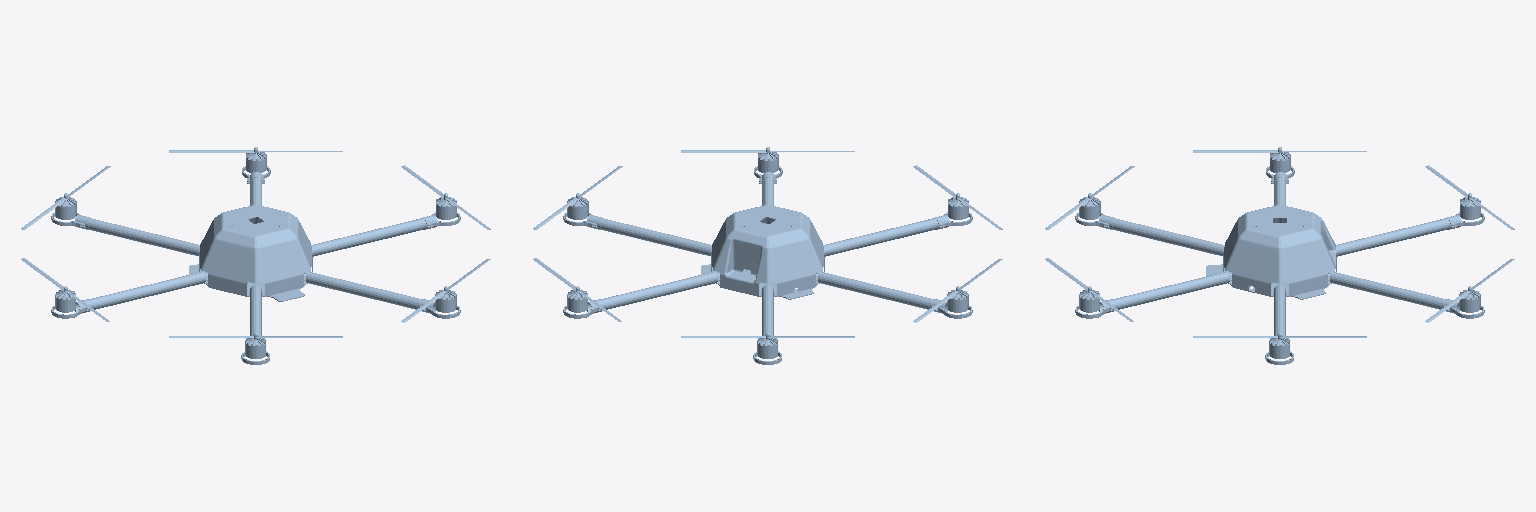
The robot description file, URDF, robot "uav_urdf":
<?xml version="1.0" encoding="utf-8"?>
<!-- This URDF was automatically created by SolidWorks to URDF Exporter! Originally created by [author] ([email redacted]) 
     Commit Version: 1.5.0-0-g9aa0fdb  Build Version: 1.5.7004.21443
     For more information, please see http://wiki.ros.org/sw_urdf_exporter -->
<robot
  name="uav_urdf">
  <link
    name="uav_link">
    <inertial>
      <origin
        xyz="0.0 0.0 0.0"
        rpy="0 0 0" />
      <mass
        value="3.54035" />
      <inertia
        ixx="8.9997"
        ixy="-3.6726E-02"
        ixz="-0.0023018"
        iyy="8.9997"
        iyz="-3.1189E-02"
        izz="2.5882" />
    </inertial>
    <visual>
      <origin
        xyz="0 0 0"
        rpy="0 0 0" />
      <geometry>
        <mesh
          filename="package://robot_urdf/meshes/uav800.STL" />
      </geometry>
      <material
        name="">
        <color
          rgba="0.7 0.8 0.9 1" />
      </material>
    </visual>
    <collision>
      <origin
        xyz="0 0 0"
        rpy="0 0 0" />
      <geometry>
        <mesh
          filename="package://robot_urdf/meshes/uav800.STL" />
      </geometry>
    </collision>
  </link>
 
</robot>

--- What the picture shows (computed from the rendered views, not written in the file) ---
The picture shows the robot from 3 angles, left to right: view 1: azimuth 30°, elevation 25°; view 2: azimuth 150°, elevation 25°; view 3: azimuth 270°, elevation 25°; orthographic projection.
Model uav_urdf with 1 links and 0 joints (none), rooted at uav_link, posed all joints at 0.
Links seen in each view (by area): view 1: uav_link; view 2: uav_link; view 3: uav_link.
Boxes of the visible links, x1,y1,x2,y2 form: uav_link: (21, 147, 490, 364); uav_link: (533, 147, 1002, 364); uav_link: (1045, 147, 1514, 364).
Size in the robot's own frame: 0.9962 by 1 by 0.122 metres.
1 mesh visuals loaded from 1 distinct referenced files (1 binary STL).